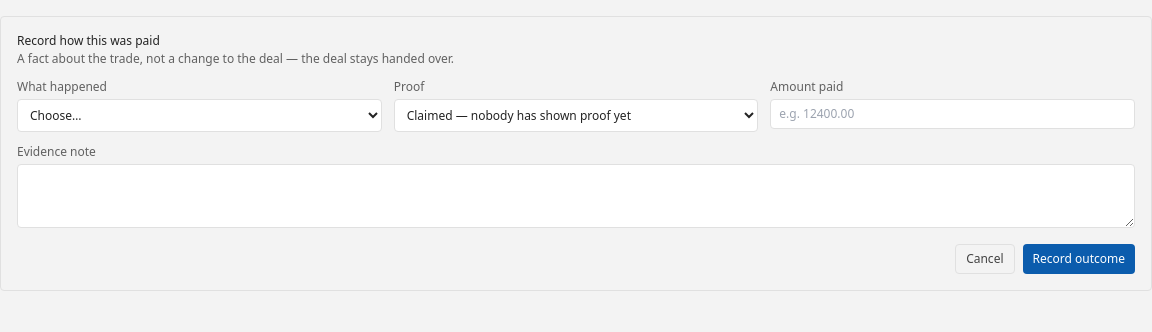
Test: shows the server’s own words when it refuses
Select "Paid" in the dropdown labelled "What happened" at (199, 116), box x1=17 y1=99 x2=382 y2=132
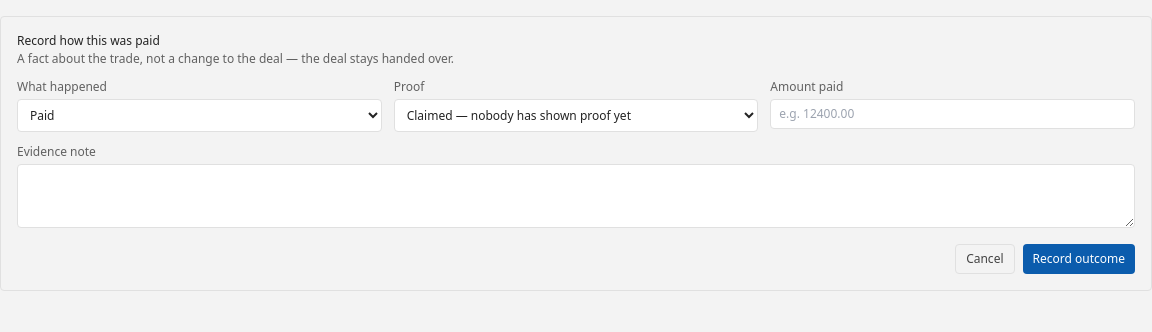
Click the button "Record outcome" at (1079, 259), box x1=1022 y1=244 x2=1135 y2=274
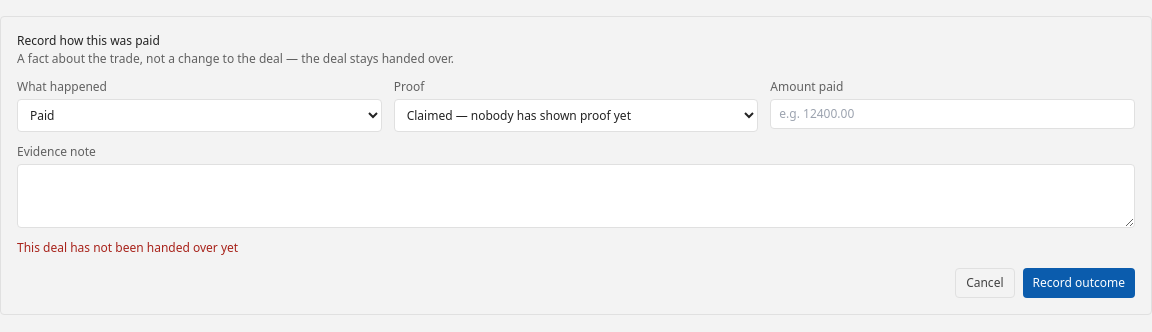
expect the message reads "This deal has not been handed over yet": met, box x1=17 y1=239 x2=238 y2=256
